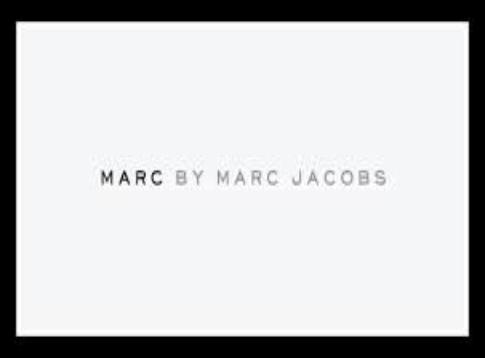MARC-JACOBS: (76, 155, 426, 209)
